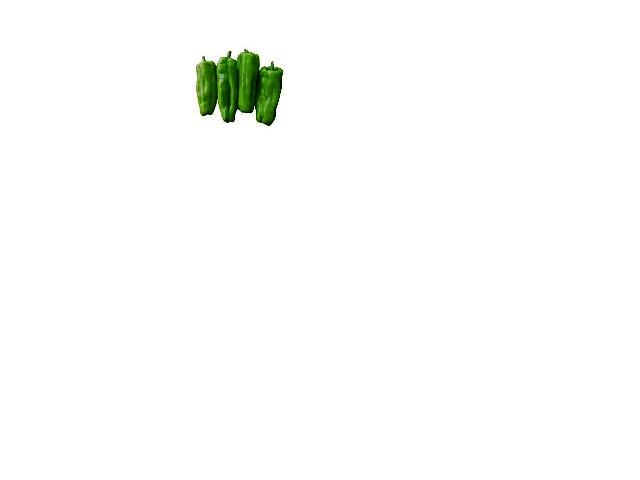bell_pepper: (255, 58, 282, 130)
